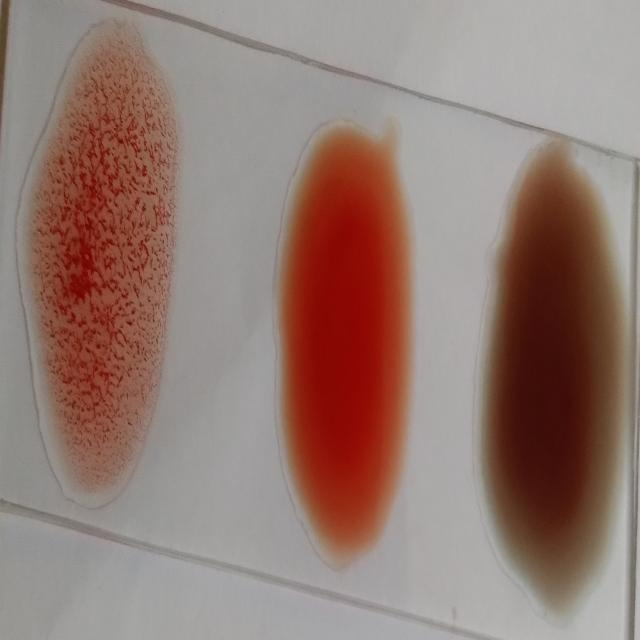D: (20, 24, 175, 502)
